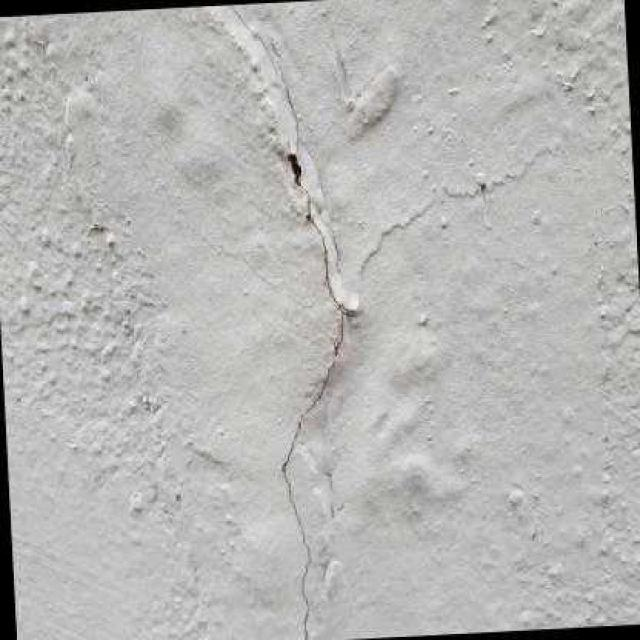D00: (271, 37, 348, 640), (218, 4, 279, 82)
